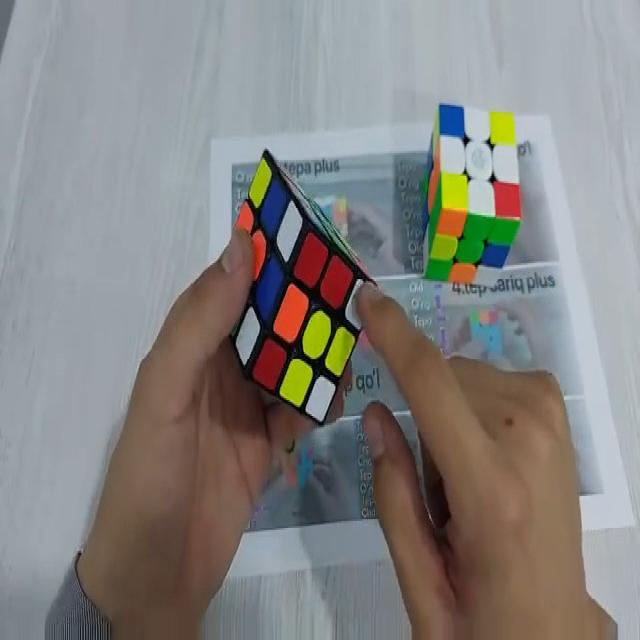Rub: (219, 147, 377, 428), (422, 100, 524, 290)
